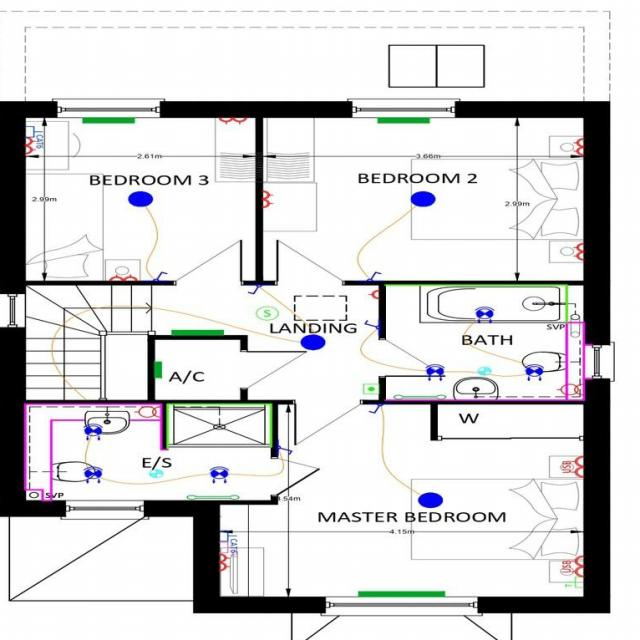Cat 6 Data Socket: (25, 125, 43, 147), (219, 531, 236, 553)
Ceiling Mounted Continuous Extract FanWith Boost Mode Activated By Light Switch: (149, 468, 162, 477), (477, 366, 491, 374)
Co-Ax TV Socket: (218, 540, 237, 556)
Double Socket: (218, 116, 246, 125), (572, 241, 584, 259), (25, 136, 36, 155), (109, 273, 138, 280), (218, 553, 229, 571), (262, 189, 272, 208), (572, 137, 582, 154)
Full Height Tiling: (385, 282, 567, 321), (165, 403, 272, 447)
Light Switch: (278, 444, 292, 455), (367, 270, 381, 281), (363, 319, 378, 329), (246, 285, 262, 294), (368, 404, 382, 414), (153, 271, 167, 280)
Low Energy Downlighter: (209, 465, 228, 483), (524, 363, 543, 380), (82, 423, 102, 439), (474, 306, 494, 322), (83, 466, 102, 482), (425, 364, 444, 380)
Low Energy Pendant Light: (126, 190, 153, 206), (417, 491, 442, 507), (410, 190, 434, 206), (300, 334, 325, 349)
Mains Wired Smoke Detector: (255, 305, 278, 320)
Programmable Room Thermostat: (362, 382, 378, 393)
Radiator: (358, 590, 445, 596), (376, 117, 428, 123), (81, 117, 134, 122), (171, 329, 223, 334), (153, 361, 161, 378)
Shaver Socket: (133, 404, 159, 420), (556, 383, 582, 396)
Single Socket: (367, 289, 378, 298)
Telephone Socket: (564, 576, 582, 586)
USB Double Socket: (562, 554, 582, 576), (562, 456, 583, 476)
